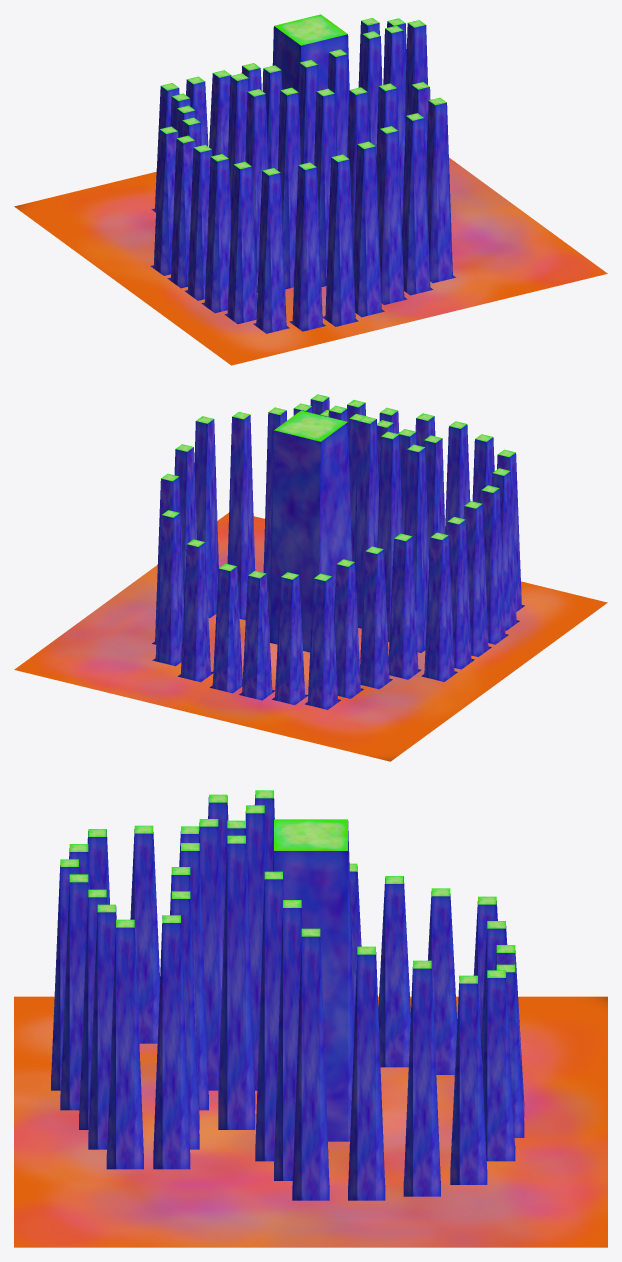
The model's file is terrain.gltf.
3 renders of one model, top to bottom at view 1: azimuth 30°, elevation 25°; view 2: azimuth 150°, elevation 25°; view 3: azimuth 270°, elevation 25°, orthographic. The views are drawn at different scales.
Visible parts, largest first — view 1: Plane; view 2: Plane; view 3: Plane.
Part boxes in pixels (bbox=[...]): Plane: bbox=[14, 14, 607, 365]; Plane: bbox=[14, 394, 607, 761]; Plane: bbox=[14, 790, 607, 1247].
Size of the model in its own units: 60.03 by 32 by 60.03.
1 material, 1 textured.
